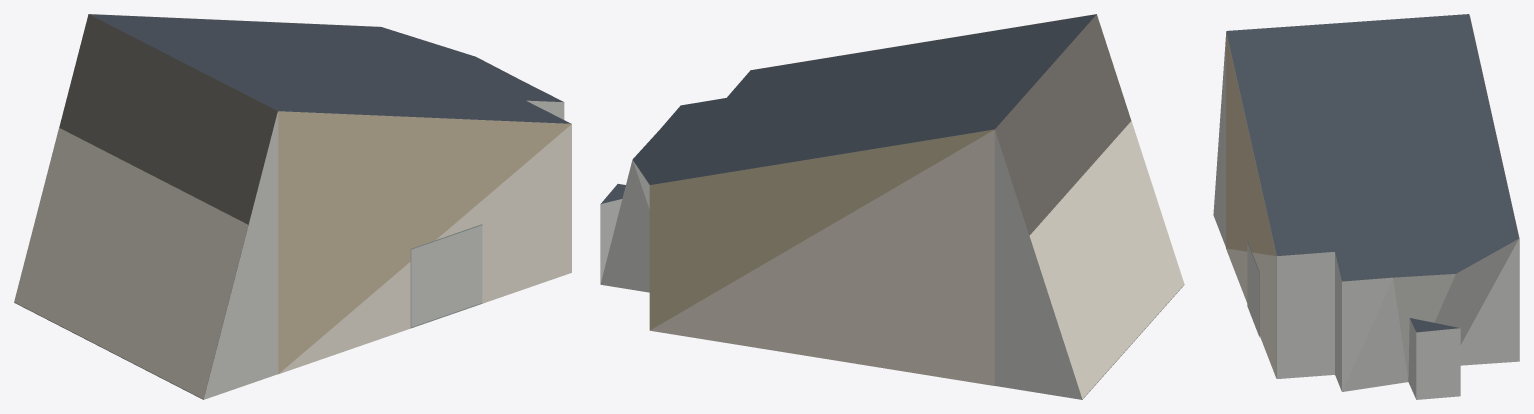
Rendered from klimmuur-centraal.lod2.glb.
The picture shows the model from 3 angles, left to right: view 1: azimuth 30°, elevation 25°; view 2: azimuth 150°, elevation 25°; view 3: azimuth 270°, elevation 25°; orthographic projection. The views are drawn at different scales.
Parts seen in each view (by area): view 1: lod2; view 2: lod2; view 3: lod2.
Part boxes in pixels (box(x1,y1,x2,y2)): lod2: box(14, 14, 571, 399); lod2: box(600, 14, 1184, 399); lod2: box(1213, 14, 1519, 399).
Size of the model in its own units: 31.96 by 16.05 by 20.49.
